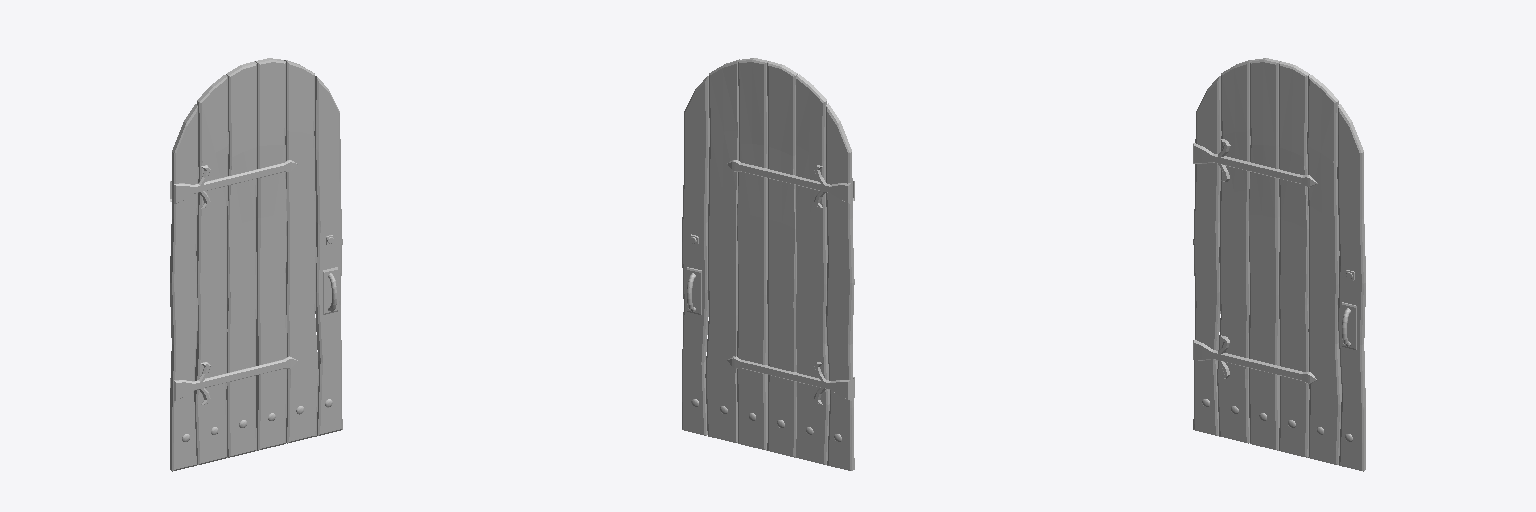
File: puerta_izq.obj
The picture shows the model from 3 angles: view 1: azimuth 30°, elevation 25°; view 2: azimuth 150°, elevation 25°; view 3: azimuth 330°, elevation 25°; orthographic projection.
Visible parts, largest first — view 1: Puerta.001_Material.014; view 2: Puerta.001_Material.014; view 3: Puerta.001_Material.014.
Boxes of the visible parts, box(x1,y1,x2,y2) form: Puerta.001_Material.014: box(170, 58, 342, 471); Puerta.001_Material.014: box(682, 58, 854, 470); Puerta.001_Material.014: box(1193, 58, 1365, 471).
Size of the model in its own units: 3.78 by 8.23 by 0.6525.